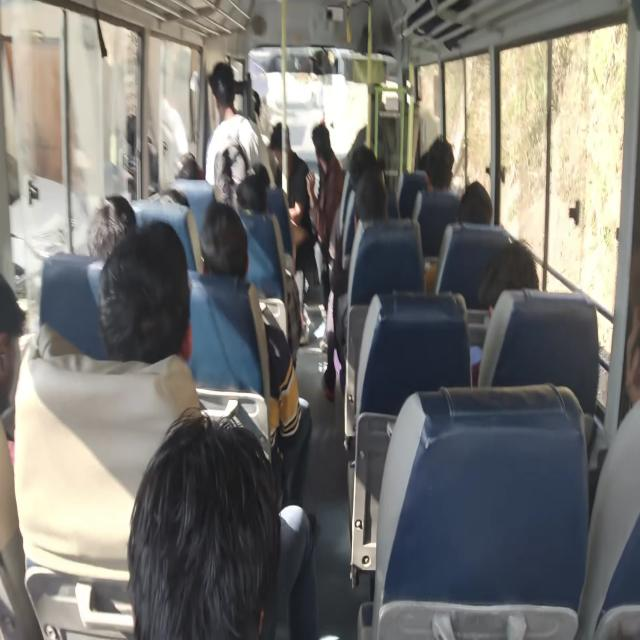person: (119, 427, 302, 588), (480, 261, 600, 375), (0, 244, 50, 447), (108, 245, 188, 323), (592, 308, 640, 420), (228, 165, 283, 234), (212, 218, 270, 283), (96, 192, 157, 250), (444, 185, 499, 239), (342, 175, 388, 232), (202, 53, 245, 111), (342, 135, 378, 189), (311, 121, 349, 164), (407, 130, 438, 173), (427, 143, 452, 194), (275, 128, 300, 170), (168, 149, 200, 175), (249, 92, 271, 125), (255, 163, 275, 189)
